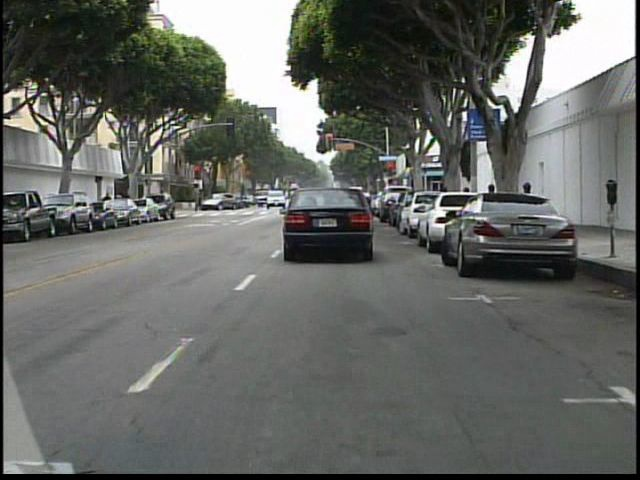person: (101, 189, 117, 222), (192, 189, 209, 214)
